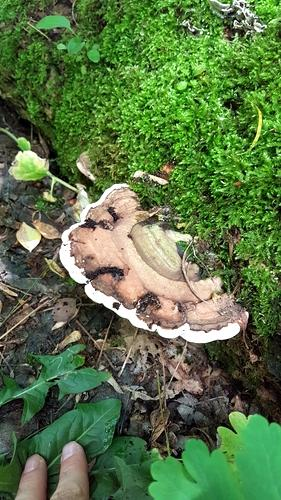Ganoderma - Fruit Body: (66, 184, 251, 344)
